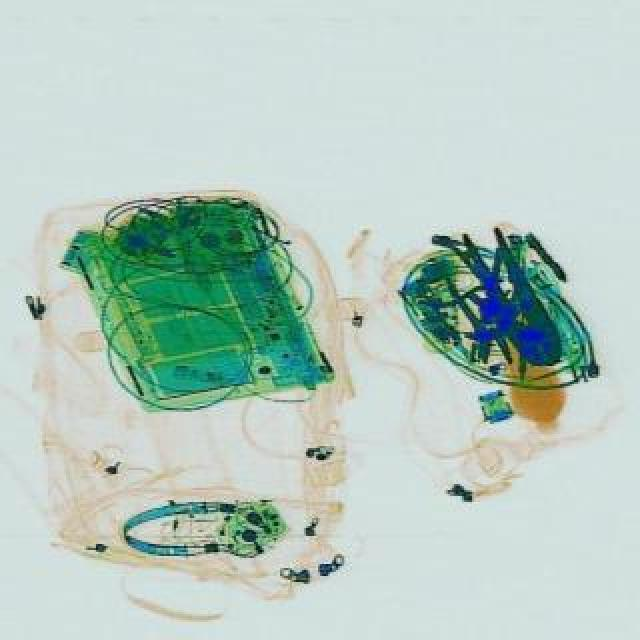wrench: (454, 222, 570, 380), (414, 242, 516, 326), (444, 268, 522, 372)
